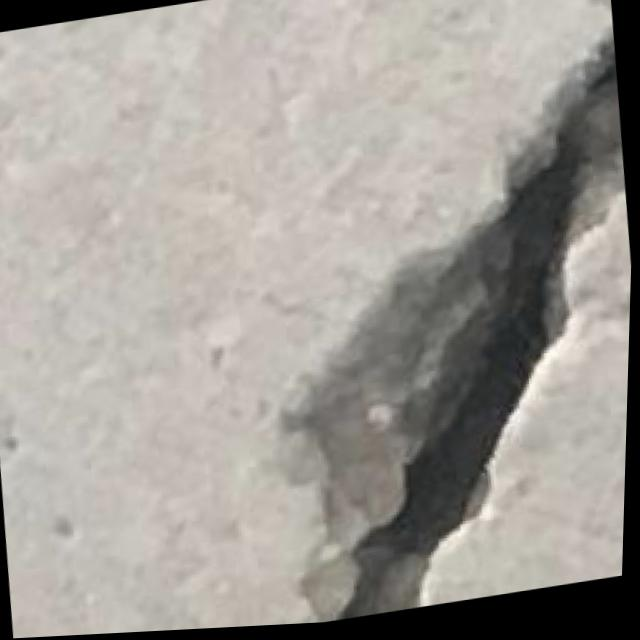Crack: (233, 46, 638, 630)
